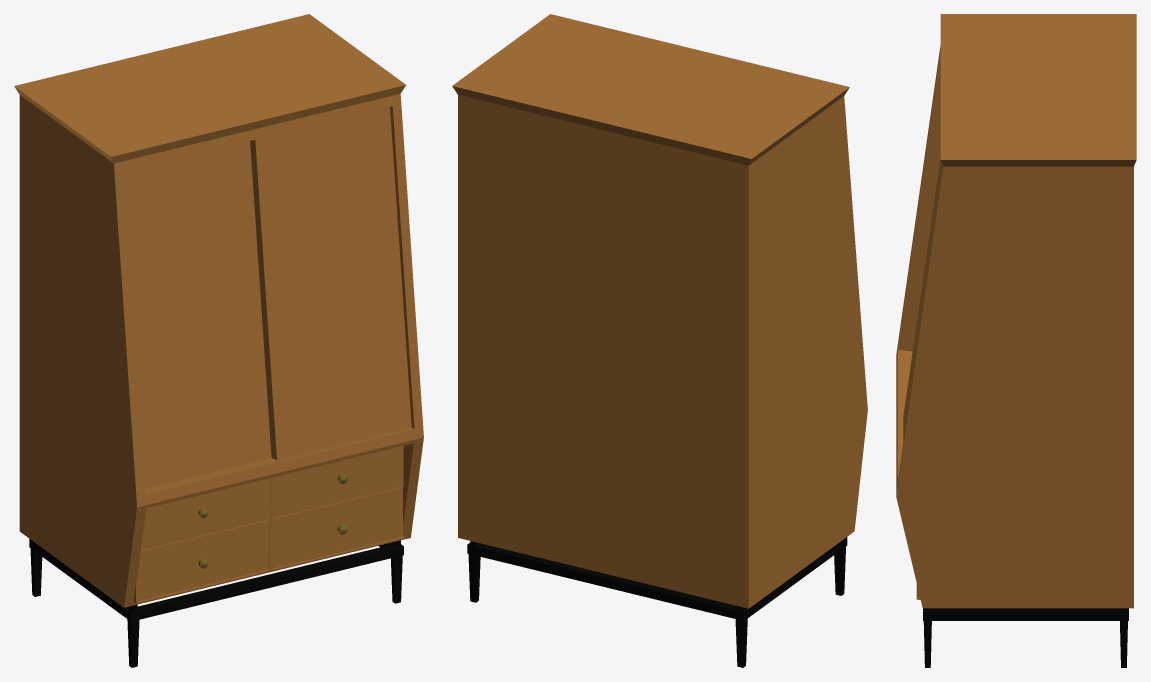
File: wardrobe.glb
3 renders of one model, left to right at view 1: azimuth 30°, elevation 25°; view 2: azimuth 150°, elevation 25°; view 3: azimuth 270°, elevation 25°, orthographic.
Parts seen in each view (by area): view 1: Cube, Cube.001, Cube.002, Cube.005, Cube.004, Cube.003; view 2: Cube, Cube.005; view 3: Cube, Cube.005.
Boxes of the visible parts, bbox=[...] form: Cube: bbox=[14, 14, 423, 607]; Cube.001: bbox=[134, 519, 268, 601]; Cube.002: bbox=[273, 487, 402, 568]; Cube.005: bbox=[29, 539, 403, 667]; Cube.004: bbox=[274, 445, 403, 518]; Cube.003: bbox=[141, 478, 268, 550]; Cube: bbox=[452, 14, 867, 608]; Cube.005: bbox=[467, 537, 847, 667]; Cube: bbox=[896, 14, 1136, 608]; Cube.005: bbox=[923, 608, 1128, 667].
Bounding box in the file's own units: 1.09 × 1.8 × 0.7613.
